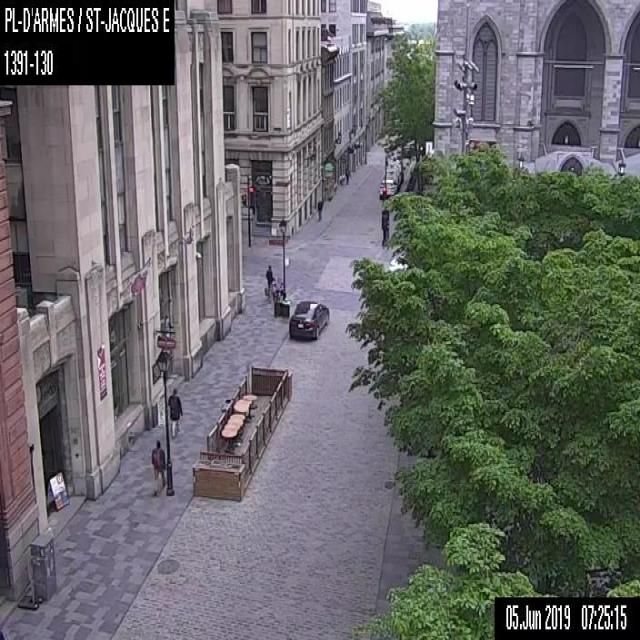pedestrian: (150, 438, 165, 494), (167, 387, 183, 436), (264, 263, 272, 292), (316, 196, 322, 220), (344, 163, 349, 185)
vehicle: (287, 300, 329, 340), (378, 178, 396, 196)
